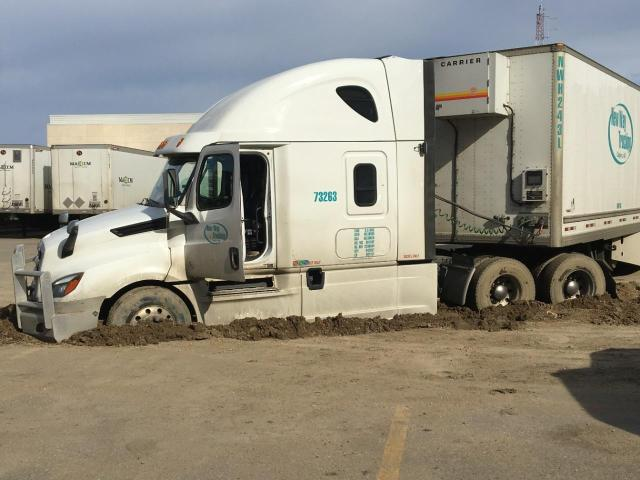truck: (5, 39, 599, 354)
